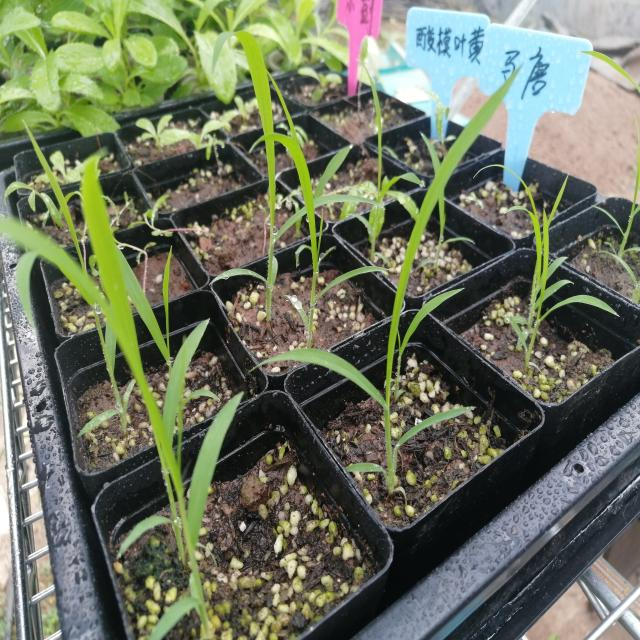crabgrass: (313, 68, 511, 480), (218, 32, 342, 314)
